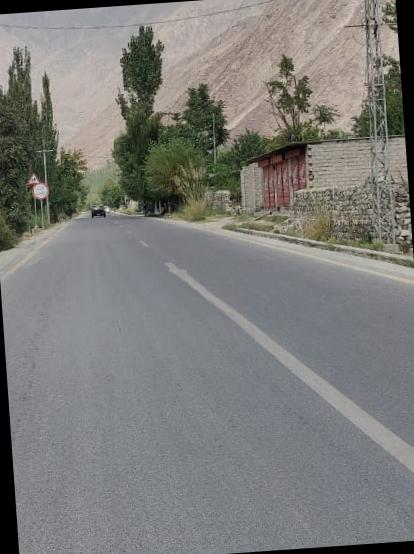sharp_turn: (4, 120, 414, 554)
